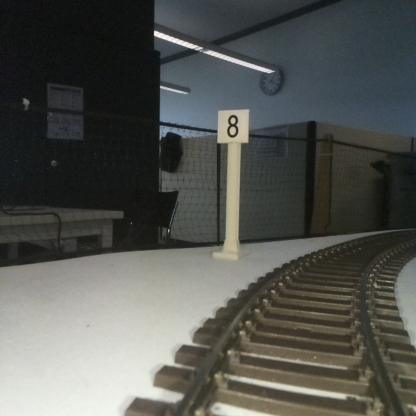white-info-8: (217, 109, 248, 258)
